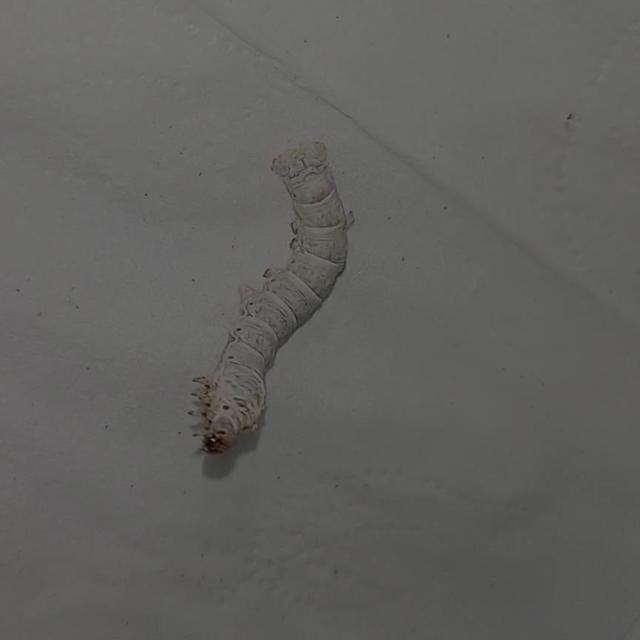Healthy: (172, 129, 374, 520)
